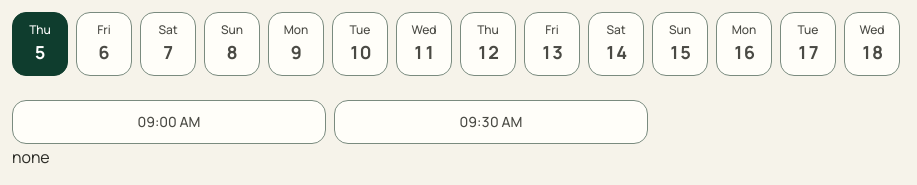
Scenario: SlotPicker › choosing a time selects it; choosing another day loads that day and clears the choice
The image size is (917, 185).
Click the button "09:30 AM". click: coordinates (491, 122)
box: [334,100,648,144]
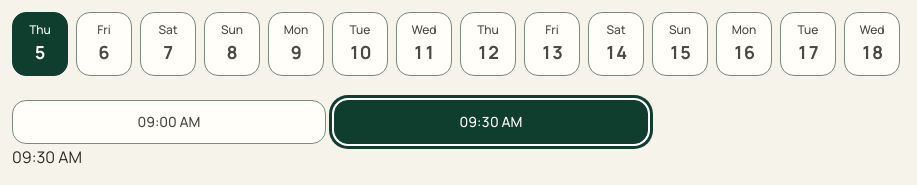
Check: the text with test id "chosen" reads "09:30 AM", box [12,146,82,168]
Click the button with aria-label "Friday 6 Nov". click: coordinates (104, 44)
box: [76,12,132,76]
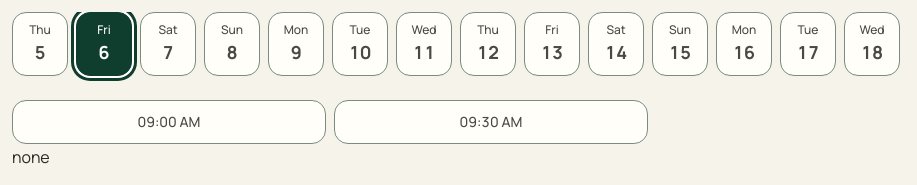
Check: the text with test id "chosen" reads "none", box [12,146,50,168]
